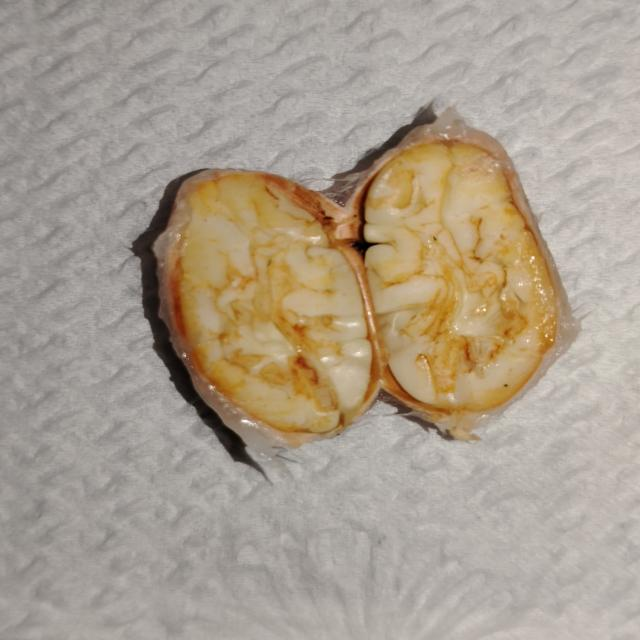Criollo: (134, 171, 380, 443), (366, 114, 538, 430)
